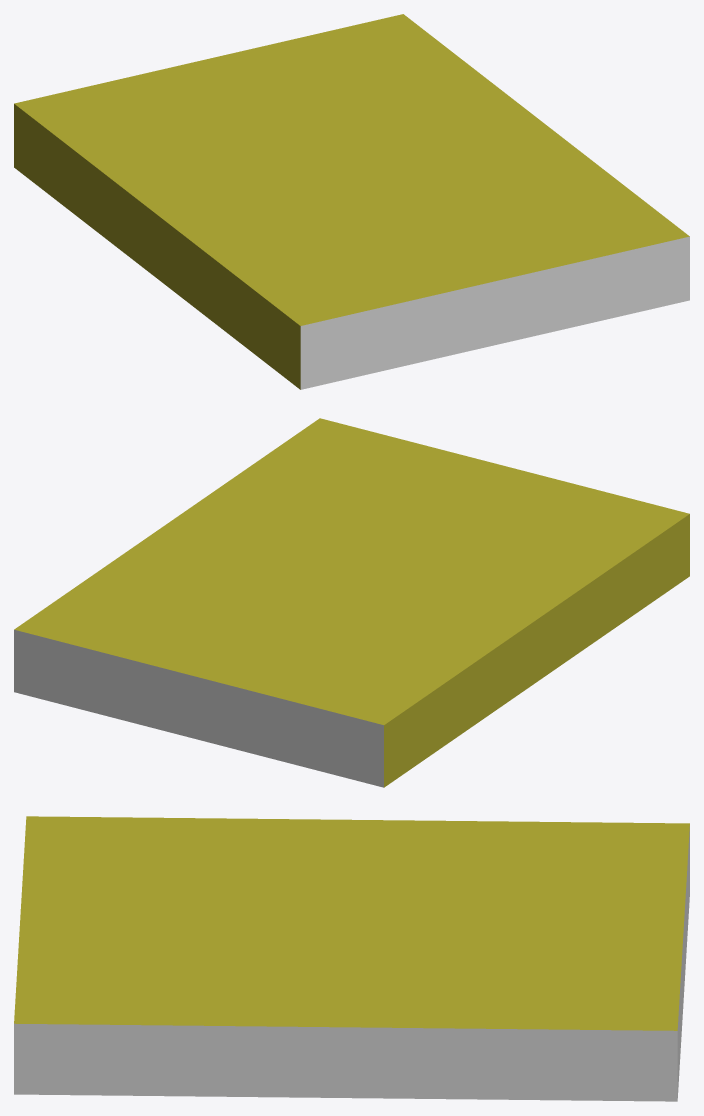
File: Livro3.fbx
3 renders of one model, top to bottom at view 1: azimuth 30°, elevation 25°; view 2: azimuth 150°, elevation 25°; view 3: azimuth 270°, elevation 25°, orthographic. The views are drawn at different scales.
Visible parts, largest first — view 1: livro; view 2: livro; view 3: livro.
Boxes of the visible parts, x1,y1,x2,y2 form: livro: (14,14,689,389); livro: (14,418,689,787); livro: (14,816,689,1101).
Bounding box in the file's own units: 0.0805 × 0.0124 × 0.1072.
